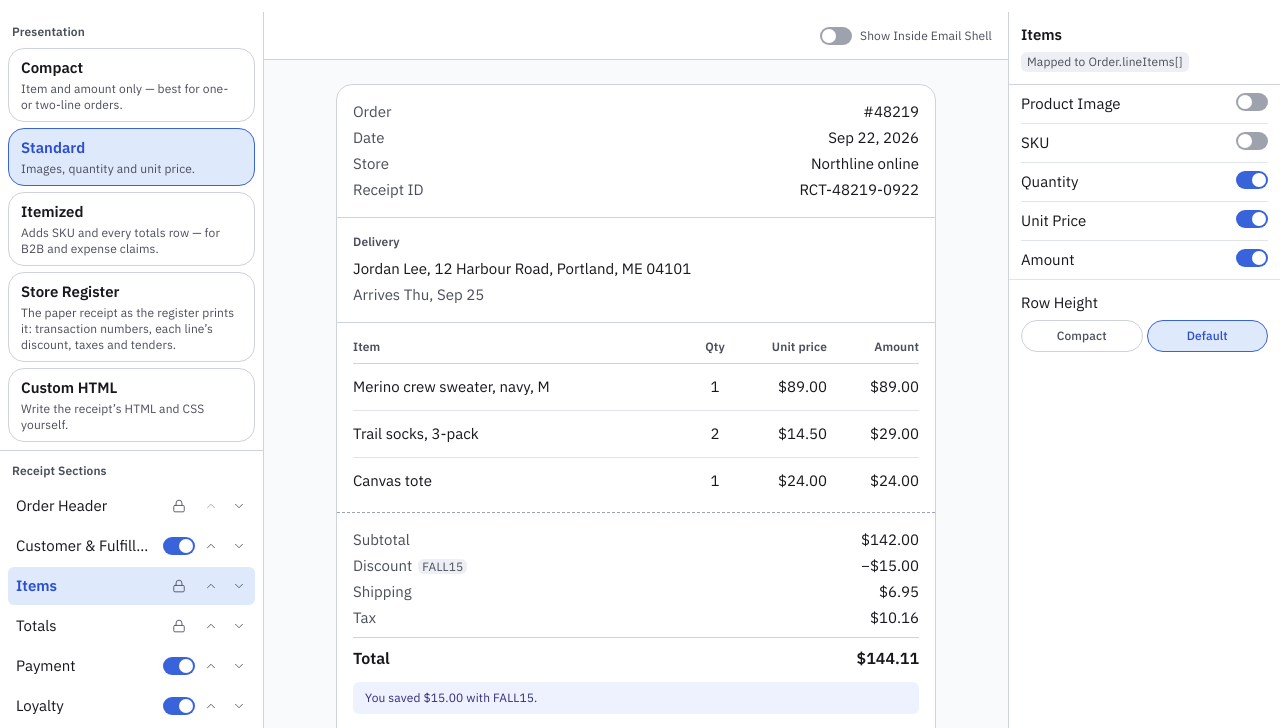
Test: the right panel offers the selected section its own settings
Expected: the heading "Items" is shown, [1021, 24, 1062, 46]
Expected: the text "Mapped to Order.lineItems[]" is shown, [1021, 52, 1189, 72]
Click the button "Customer & Fulfillment" at (84, 546), box [8, 527, 159, 565]
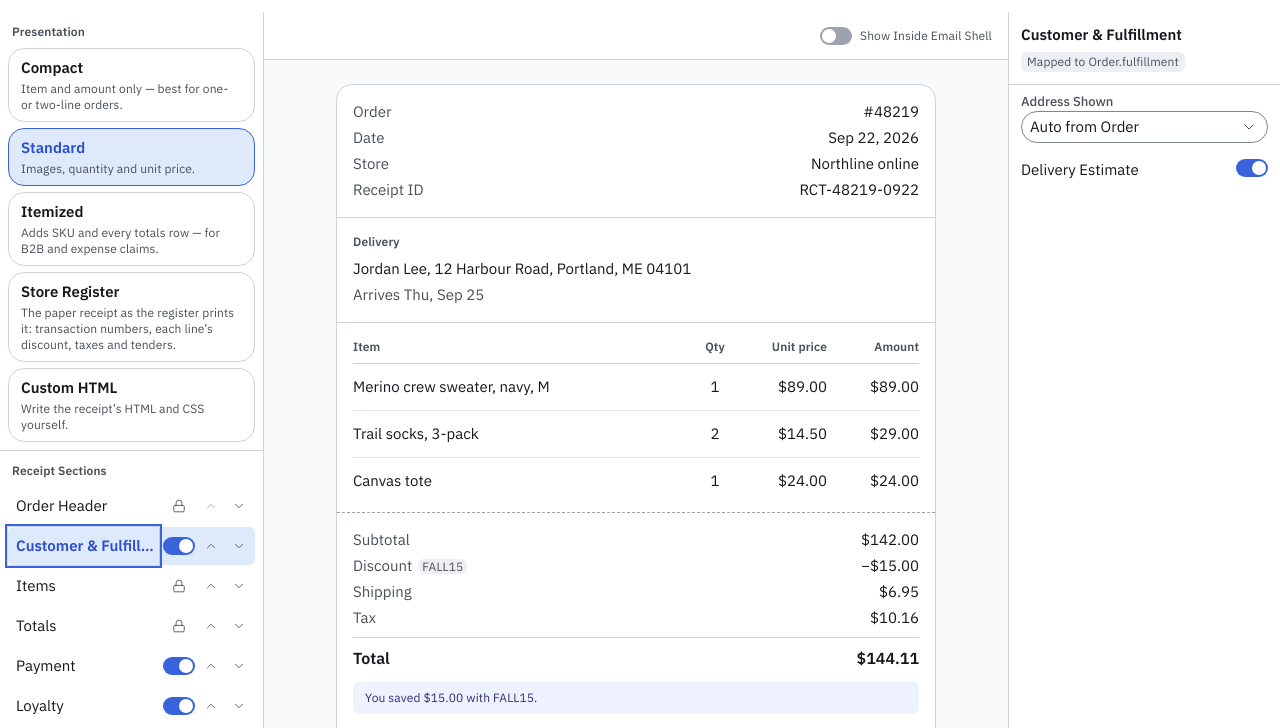
Expected: the dropdown labelled "Address Shown" is shown, [1021, 111, 1268, 143]
Expected: the text "Row Height" is gone
Click the button "Payment" at (84, 666), box [8, 647, 159, 685]
(page scrolled)
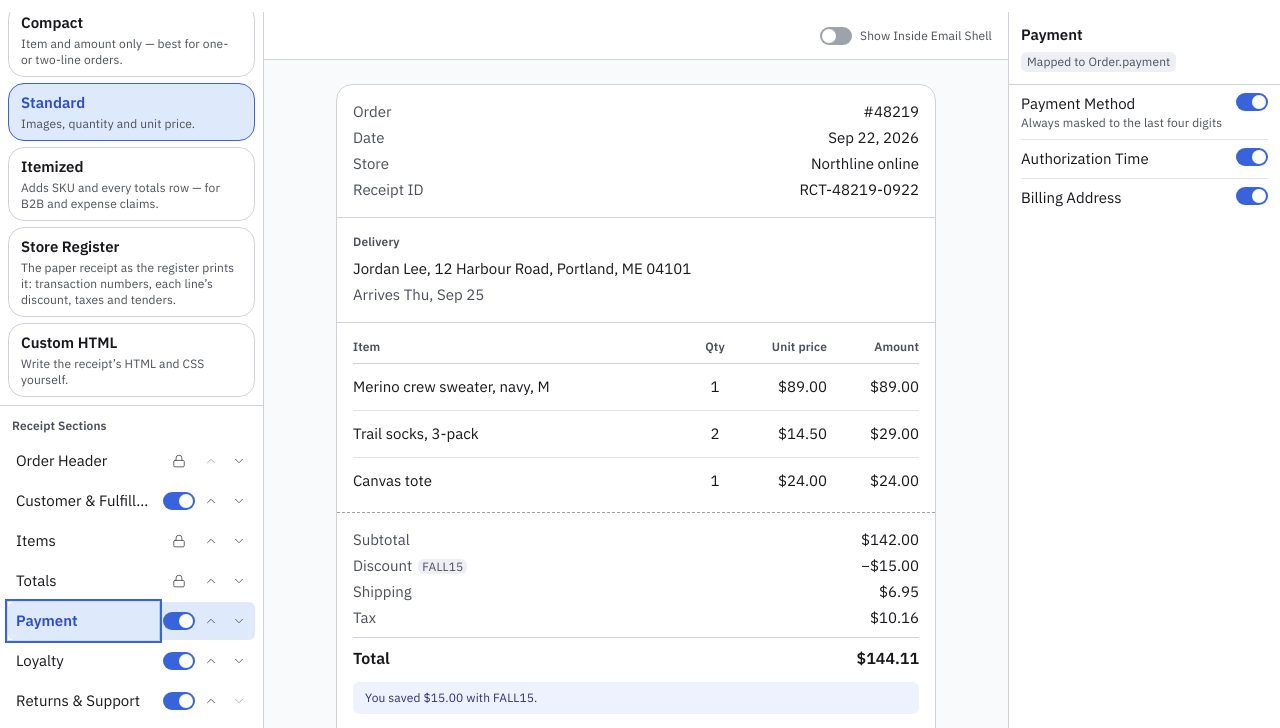
Expected: the text "Always masked to the last four digits" is shown, [1021, 115, 1222, 131]
Click the button "Returns & Support" at (84, 701), box [8, 682, 159, 720]
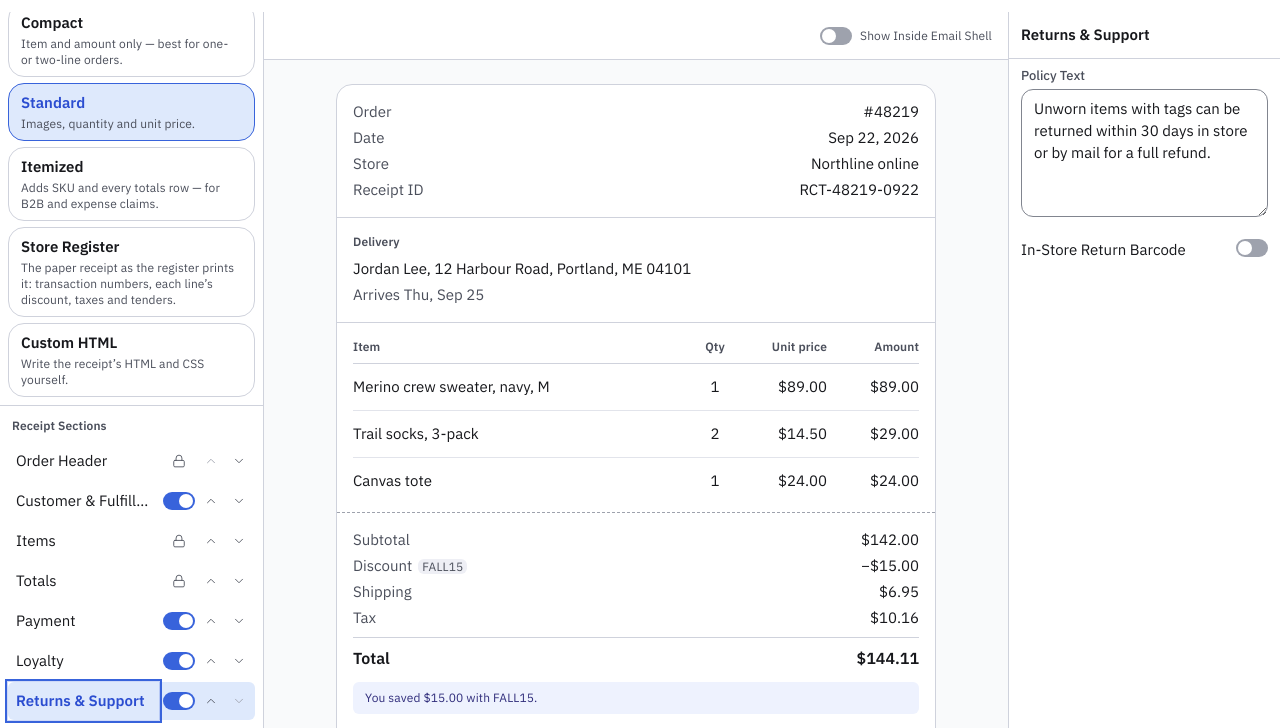
Expected: the text box labelled "Policy Text" is shown, [1021, 89, 1268, 217]
Expected: the text "Mapped to" is gone
